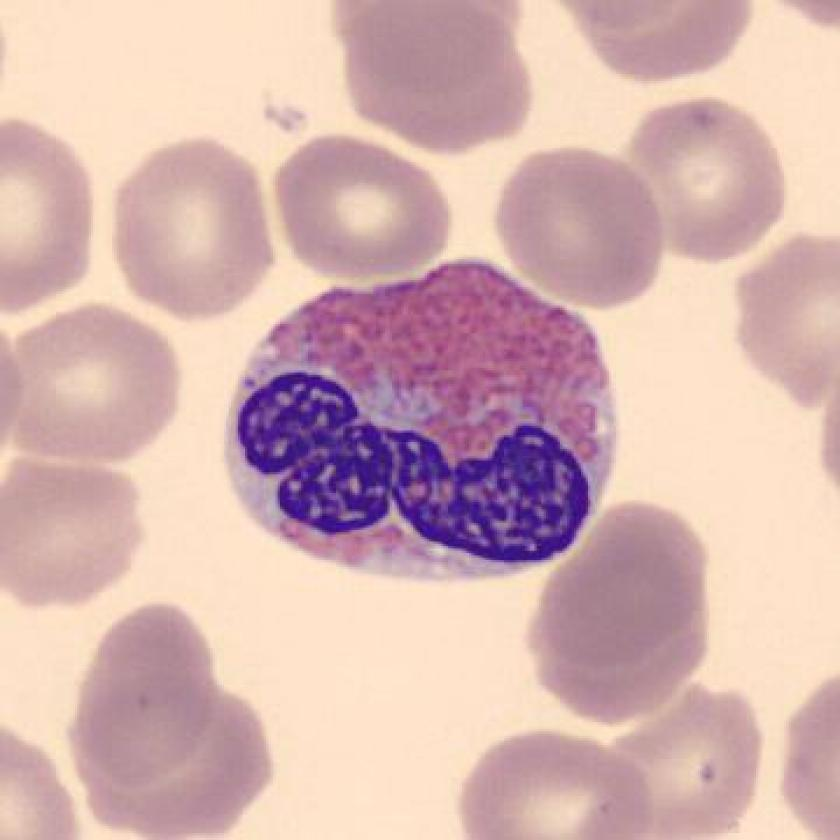eosinophil: (209, 249, 631, 598)
